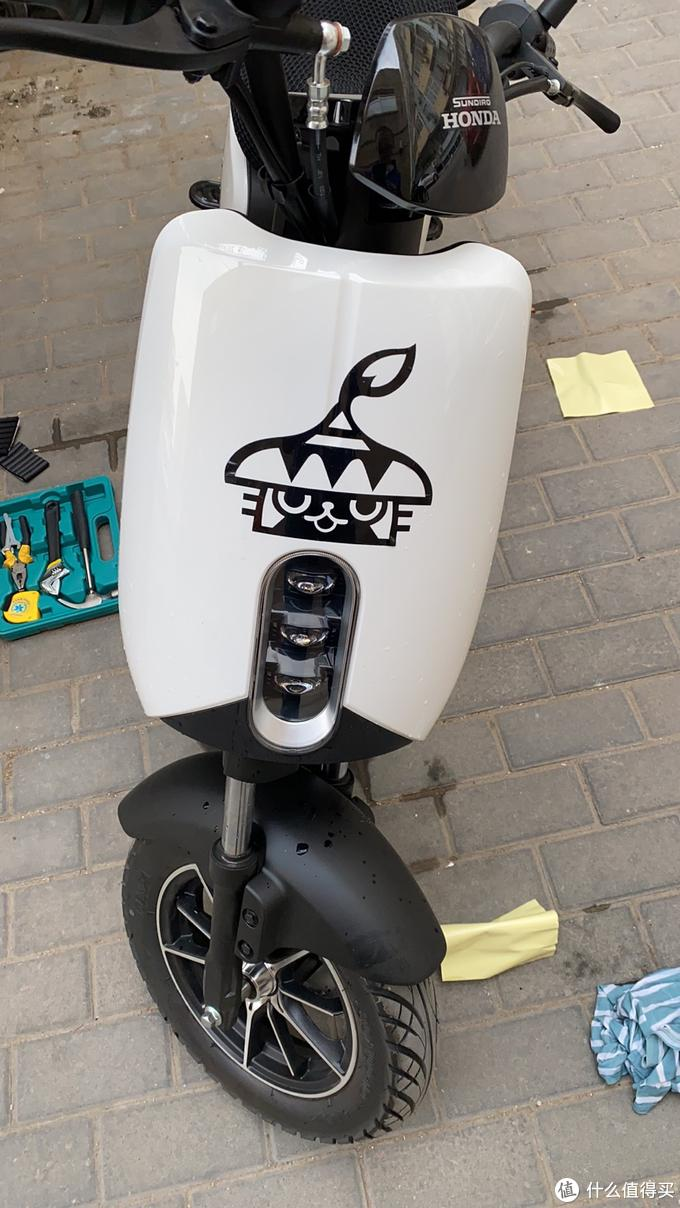电动车: (46, 5, 556, 1153)
